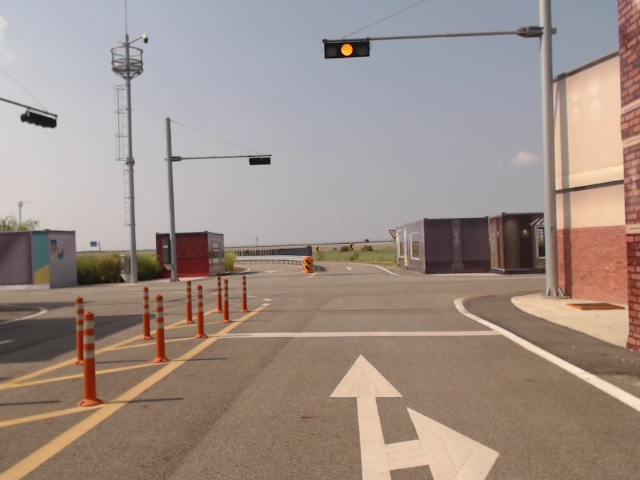orange_3: (324, 40, 371, 59)
